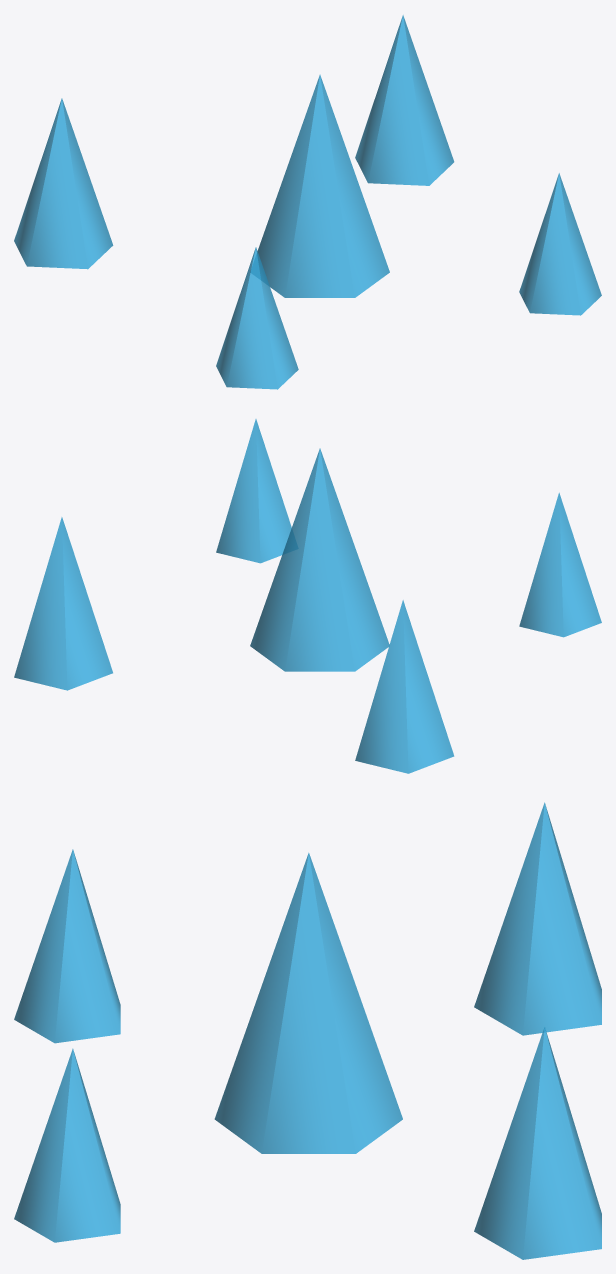
Rendered from dev_04.glb.
The picture shows the model from 3 angles, top to bottom: view 1: azimuth 30°, elevation 25°; view 2: azimuth 150°, elevation 25°; view 3: azimuth 270°, elevation 25°; orthographic projection. The views are drawn at different scales.
Parts seen in each view (by area): view 1: DEV_04, devias_crystal_needles; view 2: DEV_04, devias_crystal_needles; view 3: DEV_04, devias_crystal_needles.
Boxes of the visible parts, left/top/right/bottom form: DEV_04: left=14, top=15, right=601, bottom=389; devias_crystal_needles: left=257, top=74, right=389, bottom=297; DEV_04: left=14, top=419, right=601, bottom=773; devias_crystal_needles: left=250, top=448, right=389, bottom=671; DEV_04: left=14, top=802, right=601, bottom=1259; devias_crystal_needles: left=214, top=852, right=402, bottom=1153.
Size of what is drawn, in the model's own units: 22.57 by 10 by 19.94.
